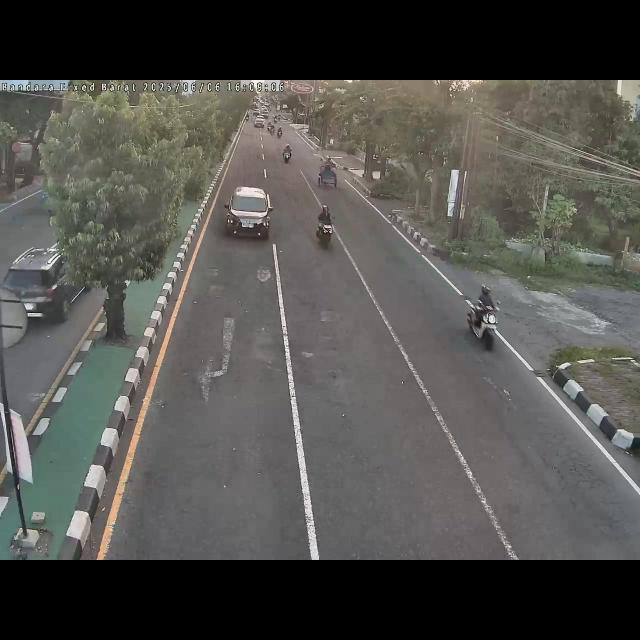Mobil: (223, 184, 270, 240)
Motor: (467, 285, 501, 351), (316, 206, 336, 250), (283, 144, 293, 164), (278, 126, 282, 140)
